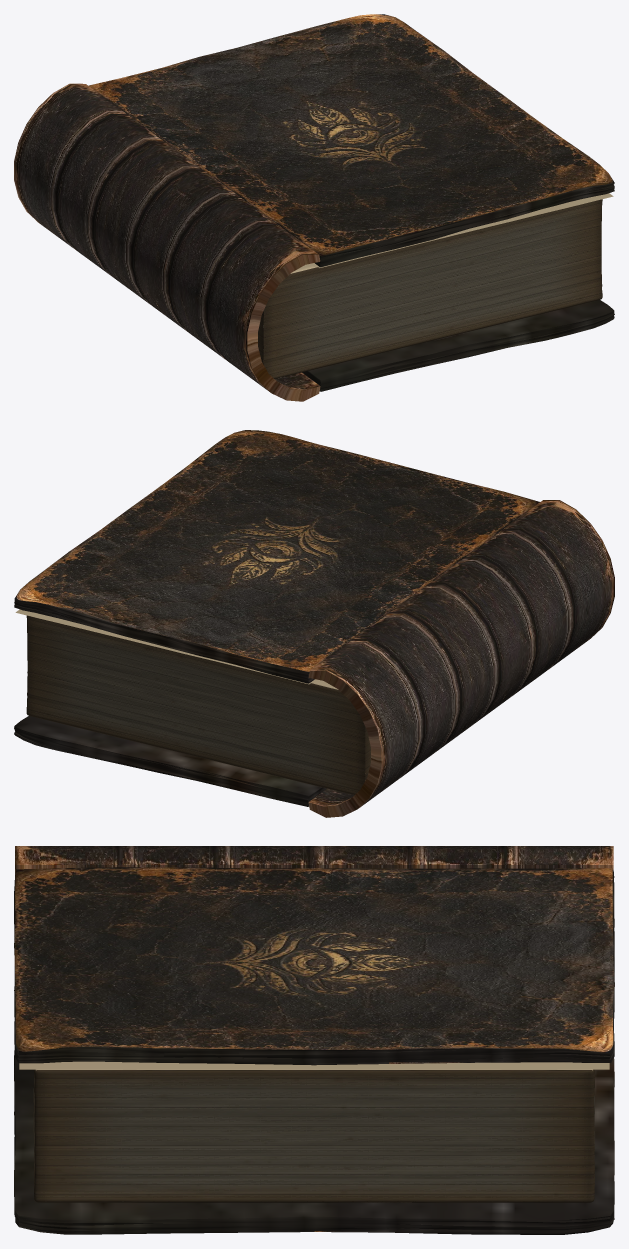
Rendered from book_open.glb.
3 renders of one model, top to bottom at view 1: azimuth 30°, elevation 25°; view 2: azimuth 150°, elevation 25°; view 3: azimuth 270°, elevation 25°, orthographic. The views are drawn at different scales.
Parts seen in each view (by area): view 1: Cover_Front, Spine, Pages, Cover_Back, Cover_Endpaper; view 2: Cover_Front, Spine, Pages, Cover_Back, Cover_Endpaper; view 3: Cover_Front, Pages, Cover_Back, Spine, Cover_Endpaper.
Boxes of the visible parts, <box> form: Cover_Front: <box>88,14,614,267</box>; Spine: <box>14,83,320,401</box>; Pages: <box>258,199,602,378</box>; Cover_Back: <box>302,300,614,391</box>; Cover_Endpaper: <box>313,193,613,267</box>; Cover_Front: <box>14,430,539,683</box>; Spine: <box>308,500,614,817</box>; Pages: <box>26,615,370,794</box>; Cover_Back: <box>14,716,326,806</box>; Cover_Endpaper: <box>15,609,315,684</box>; Cover_Front: <box>14,867,614,1065</box>; Pages: <box>33,1069,594,1202</box>; Cover_Back: <box>14,1050,614,1234</box>; Spine: <box>15,846,613,875</box>; Cover_Endpaper: <box>19,1061,609,1069</box>.
Size of the model in its own units: 0.3106 by 0.1175 by 0.3393.
Materials: 6 (4 with a texture image).
